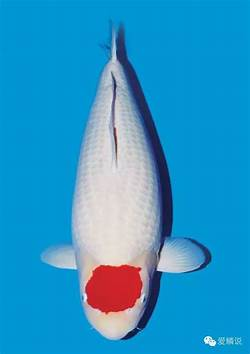sun: (39, 20, 209, 341)
